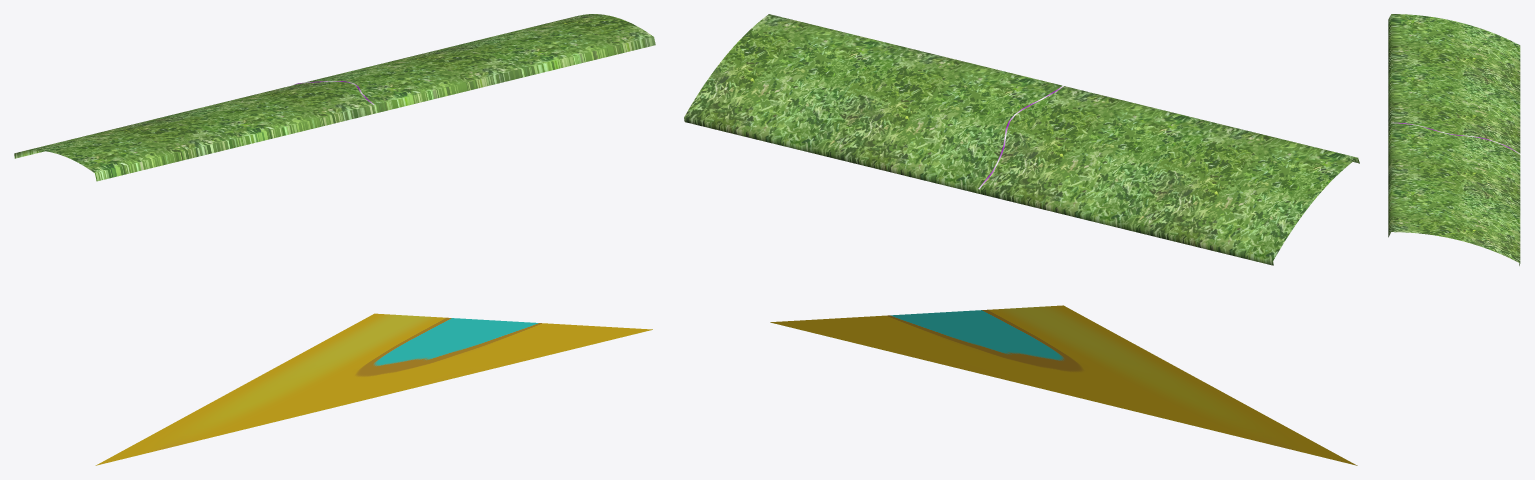
Rendered from L_Desert.fbx.
3 renders of one model, left to right at view 1: azimuth 30°, elevation 25°; view 2: azimuth 150°, elevation 25°; view 3: azimuth 270°, elevation 25°, orthographic. The views are drawn at different scales.
Parts seen in each view (by area): view 1: Cylinder.003, Obj; view 2: Cylinder.003, Obj; view 3: Cylinder.003, WireCave1.
Boxes of the visible parts, bbox=[...] form: Cylinder.003: bbox=[14, 14, 655, 181]; Obj: bbox=[95, 313, 652, 465]; Cylinder.003: bbox=[684, 14, 1359, 265]; Obj: bbox=[770, 305, 1357, 465]; Cylinder.003: bbox=[1388, 14, 1520, 265]; WireCave1: bbox=[1391, 122, 1520, 154].
Size of the model in its own units: 200 by 100 by 51.18.
